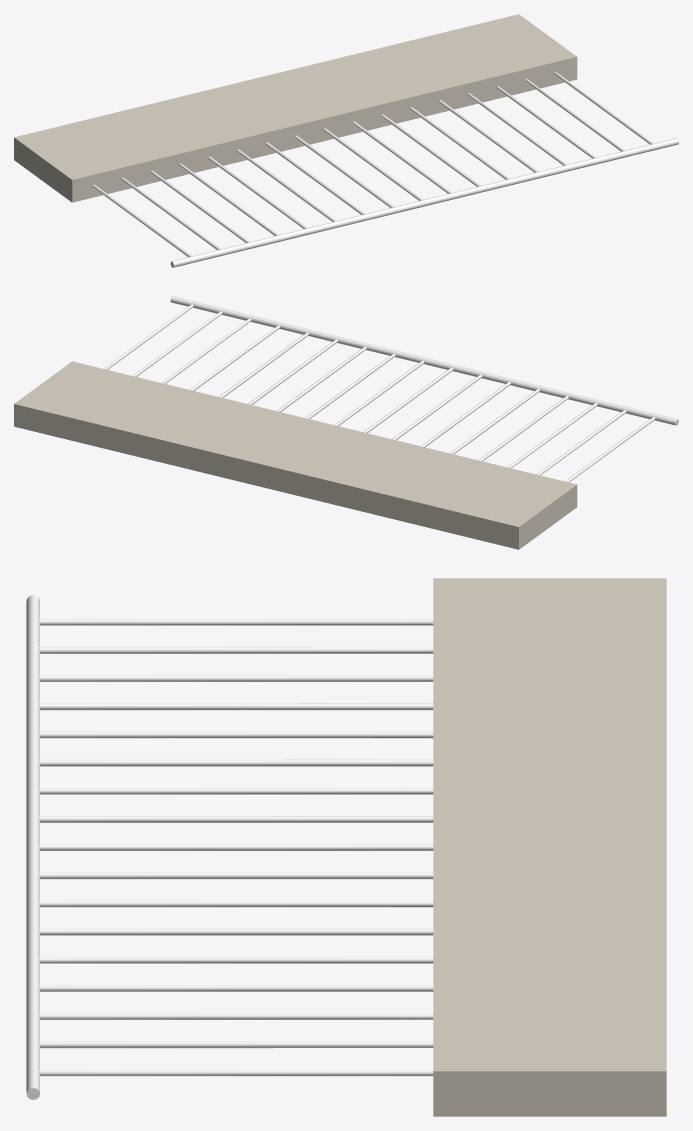
File: Railing01.gltf
3 views of the same model, one above another, from view 1: azimuth 30°, elevation 25°; view 2: azimuth 150°, elevation 25°; view 3: azimuth 270°, elevation 25° (orthographic). The views are drawn at different scales.
Visible parts, largest first — view 1: SIP, Railing; view 2: SIP, Railing; view 3: SIP, Railing.
Part boxes in pixels (x1,y1,x2,y2): SIP: (14, 14, 577, 202); Railing: (92, 72, 678, 267); SIP: (14, 361, 577, 549); Railing: (104, 296, 678, 482); SIP: (433, 578, 666, 1116); Railing: (26, 595, 433, 1099).
Size of the model in its own units: 3.5 by 0.1505 by 1.92.
